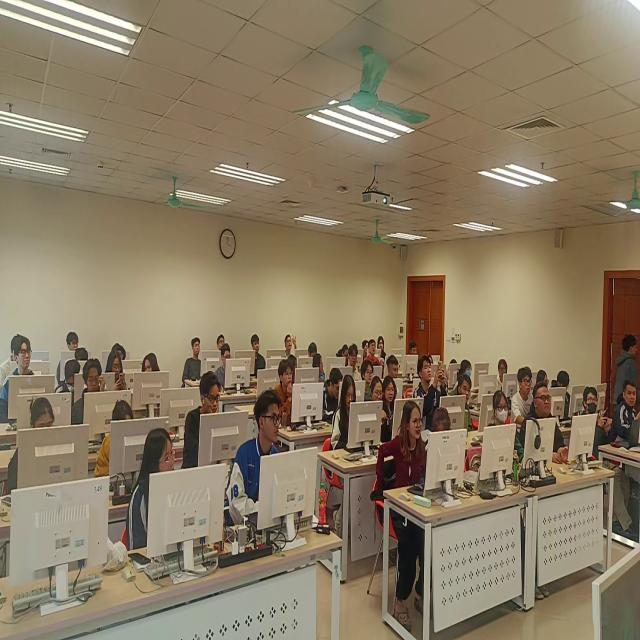raise_head: (378, 400, 429, 624), (582, 384, 637, 542), (227, 389, 284, 533), (128, 424, 177, 559), (181, 371, 222, 470), (521, 381, 569, 465), (490, 389, 525, 470), (610, 378, 640, 445), (275, 357, 298, 427), (511, 363, 534, 421), (454, 374, 475, 431), (383, 374, 399, 442), (182, 336, 203, 386), (251, 333, 268, 376), (346, 342, 363, 381), (363, 353, 374, 396), (65, 327, 83, 351), (365, 338, 381, 364), (370, 376, 383, 404), (377, 333, 388, 358), (216, 333, 227, 350), (364, 334, 369, 354)
stand: (614, 331, 640, 409)
using_computer: (5, 395, 55, 497), (93, 395, 136, 476), (1, 332, 35, 422), (73, 357, 107, 429), (331, 376, 359, 454), (55, 357, 84, 397), (1, 333, 21, 391), (323, 367, 344, 420), (552, 369, 573, 419), (214, 341, 233, 393), (433, 404, 455, 434), (458, 358, 474, 382), (387, 353, 401, 378), (75, 345, 91, 365), (536, 367, 549, 387), (309, 341, 320, 357), (411, 338, 420, 356), (339, 341, 349, 357), (412, 339, 419, 357), (450, 356, 459, 369), (428, 352, 434, 365)
using_phone: (416, 356, 449, 430), (109, 348, 130, 394), (284, 330, 299, 356)
